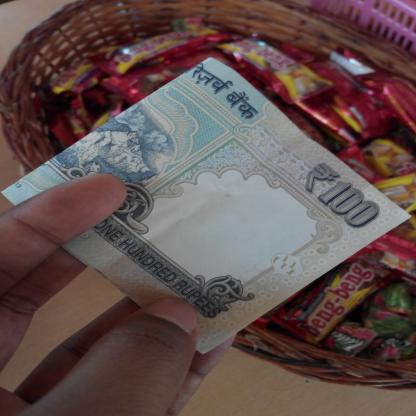Old100Back: (0, 56, 413, 354)
